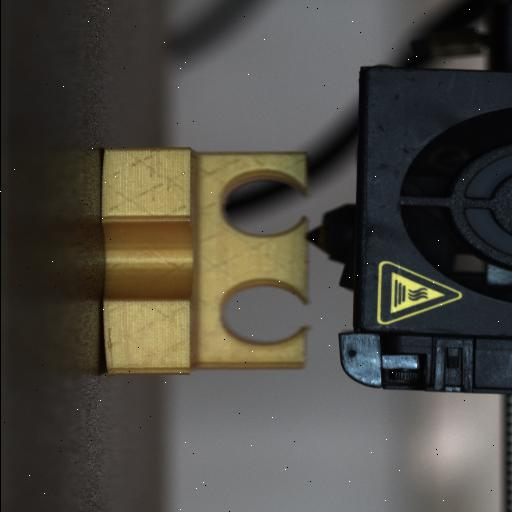warp: (94, 293, 116, 380), (92, 144, 112, 198)
